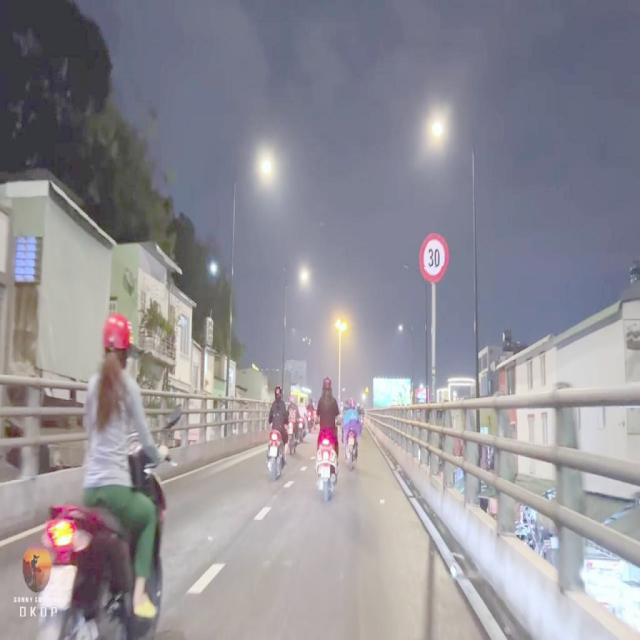khac: (419, 233, 450, 285)
